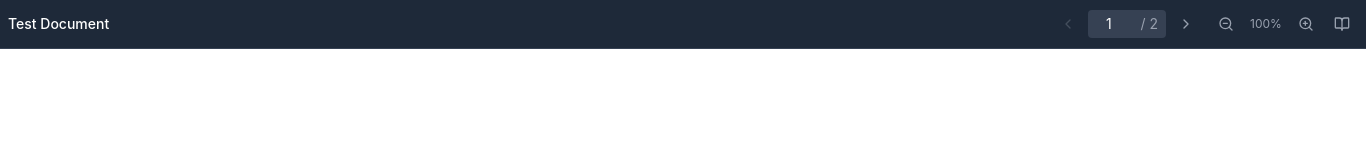
Test: Error Handling Tests › Invalid Page Number Handling › should handle page number greater than total pages
Replace the text in the number field with test id "page-input" with "10": point(1116, 24) [1096,14,1136,34]
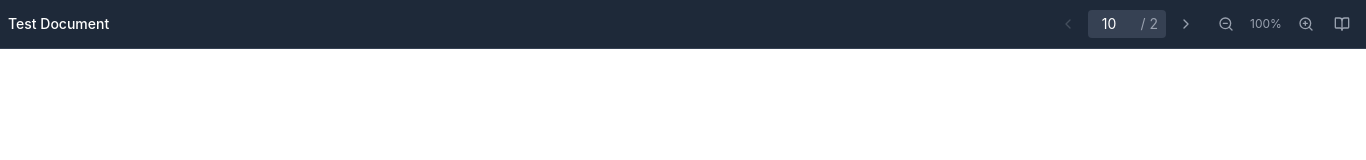
Press Enter in the number field with test id "page-input", box [1096,14,1136,34]
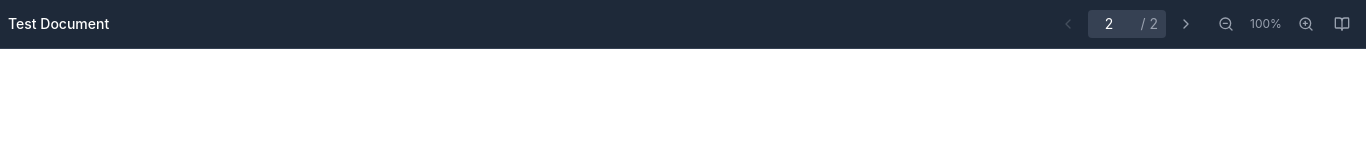
Now the number field with test id "page-input" holds "2", box [1096,14,1136,34]
